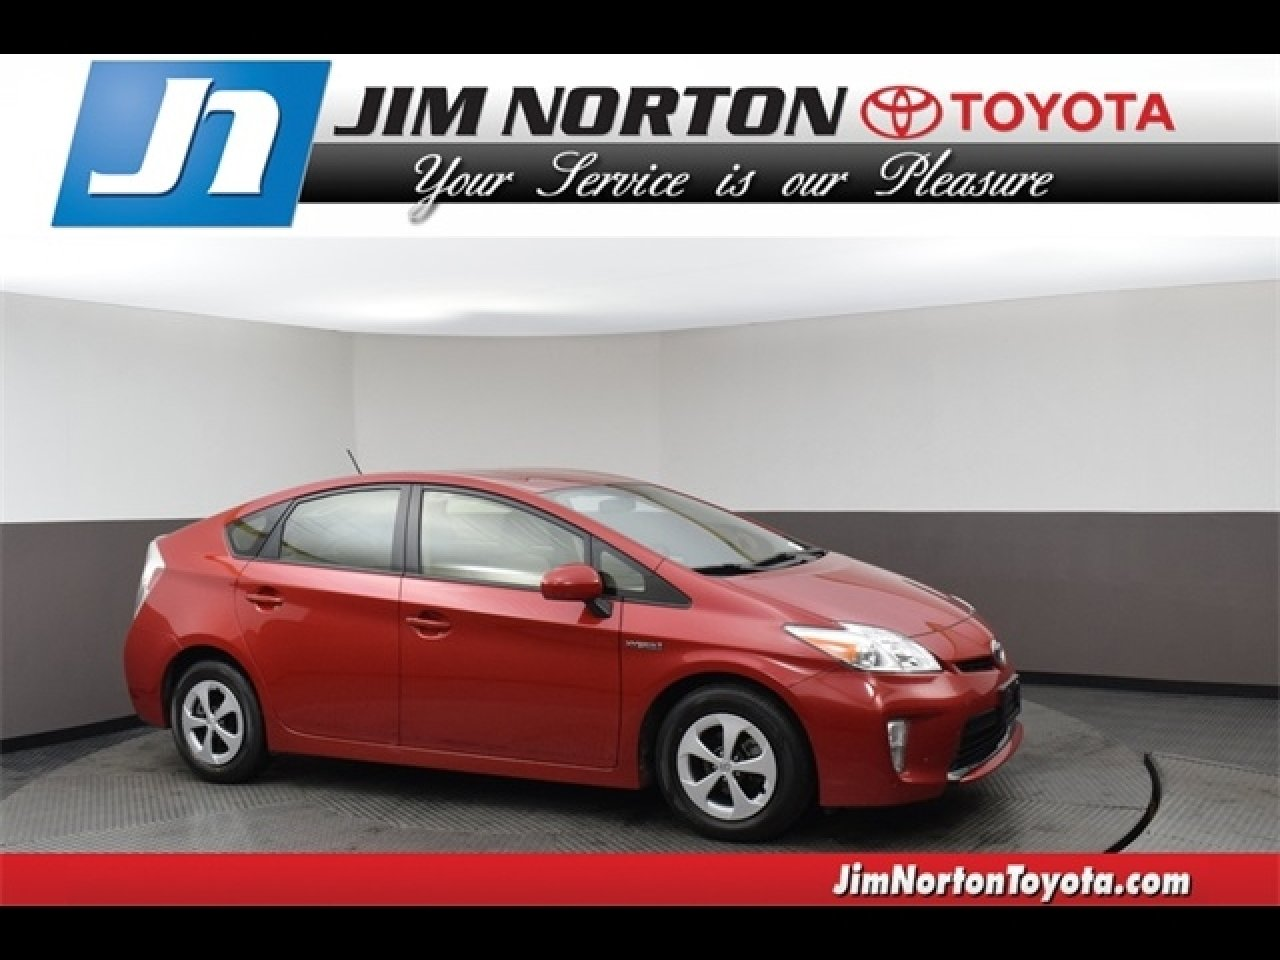Toyota Prius: (119, 463, 1029, 847)
